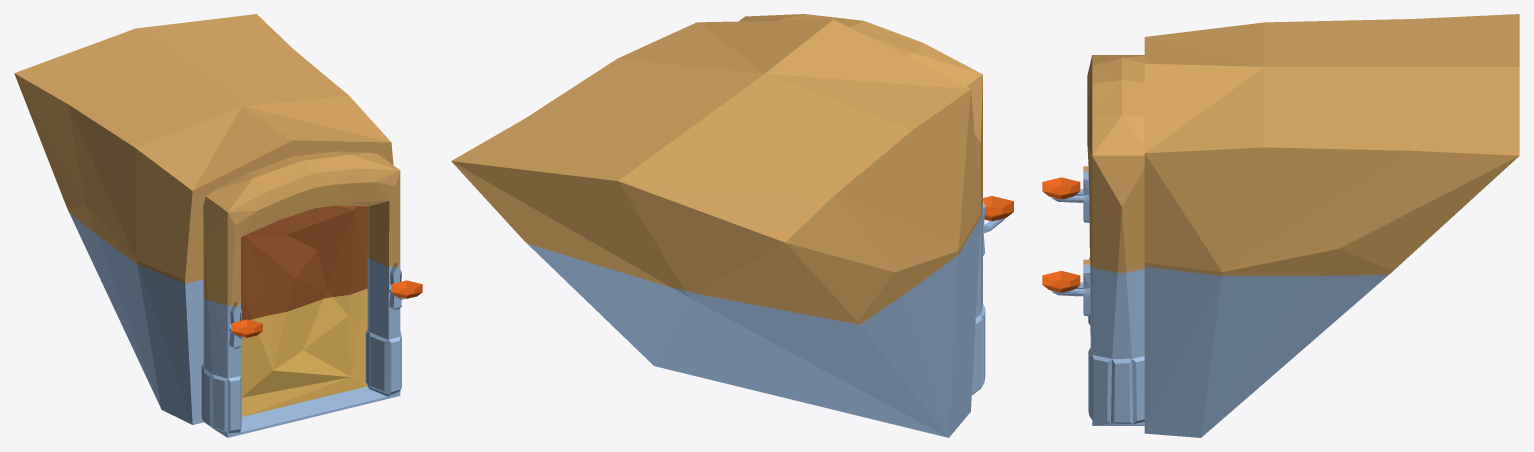
Rendered from PuzzleRoomGateExtended.fbx.
The picture shows the model from 3 angles, left to right: view 1: azimuth 30°, elevation 25°; view 2: azimuth 150°, elevation 25°; view 3: azimuth 270°, elevation 25°; orthographic projection. The views are drawn at different scales.
Parts seen in each view (by area): view 1: PuzzleRoomGate:PuzzleRoomGateExtended; view 2: PuzzleRoomGate:PuzzleRoomGateExtended; view 3: PuzzleRoomGate:PuzzleRoomGateExtended.
Boxes of the visible parts, <box> form: PuzzleRoomGate:PuzzleRoomGateExtended: <box>14,14,422,437</box>; PuzzleRoomGate:PuzzleRoomGateExtended: <box>451,14,1013,437</box>; PuzzleRoomGate:PuzzleRoomGateExtended: <box>1042,14,1519,437</box>.
Bounding box in the file's own units: 9.4 × 9.34 × 12.97.
